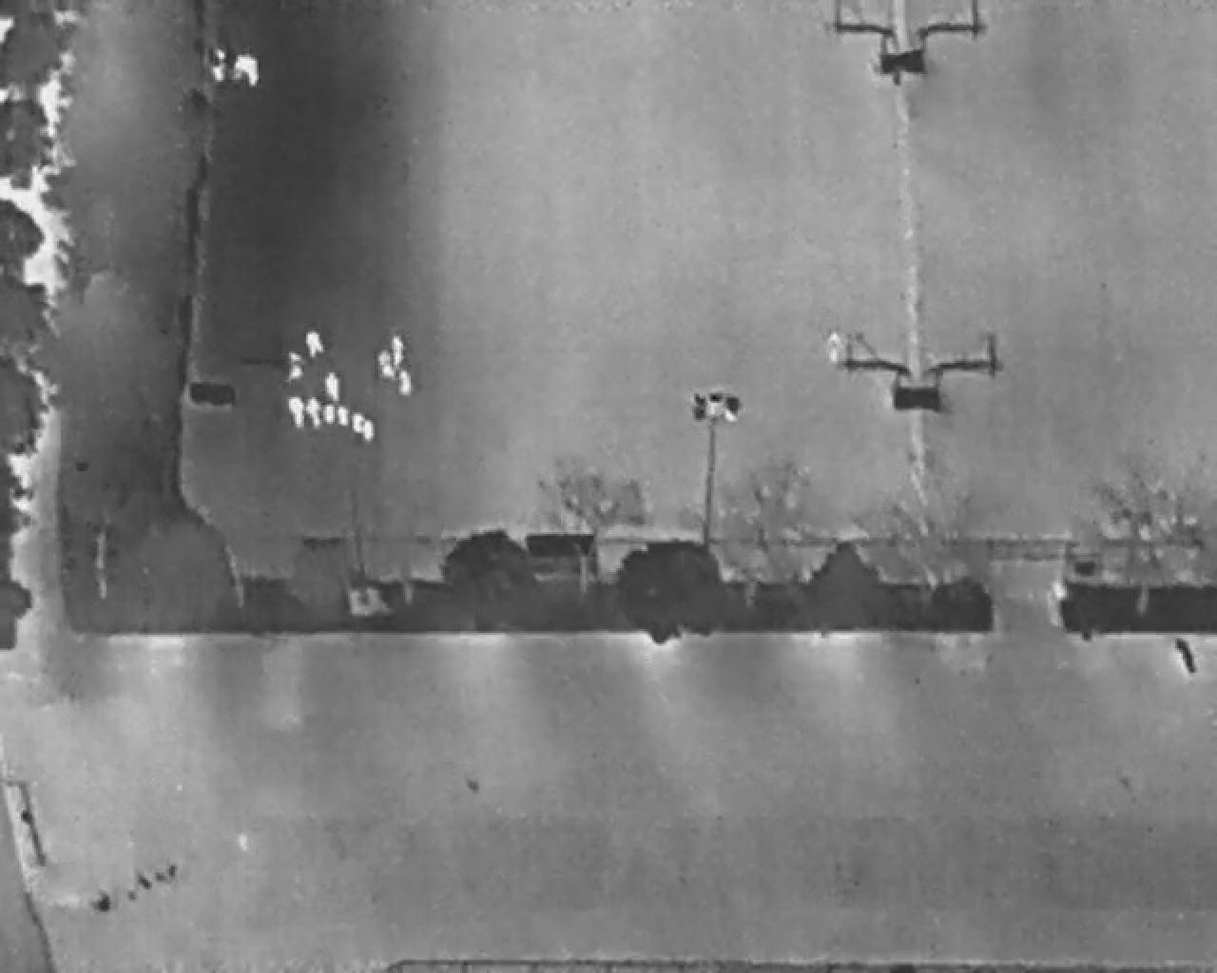person: (235, 54, 260, 88), (324, 370, 341, 404), (288, 351, 307, 381), (288, 396, 305, 429), (307, 332, 326, 360), (212, 48, 227, 83), (307, 396, 322, 429), (828, 332, 843, 364), (398, 370, 414, 396), (393, 335, 406, 366), (377, 349, 393, 368), (381, 364, 396, 381)
